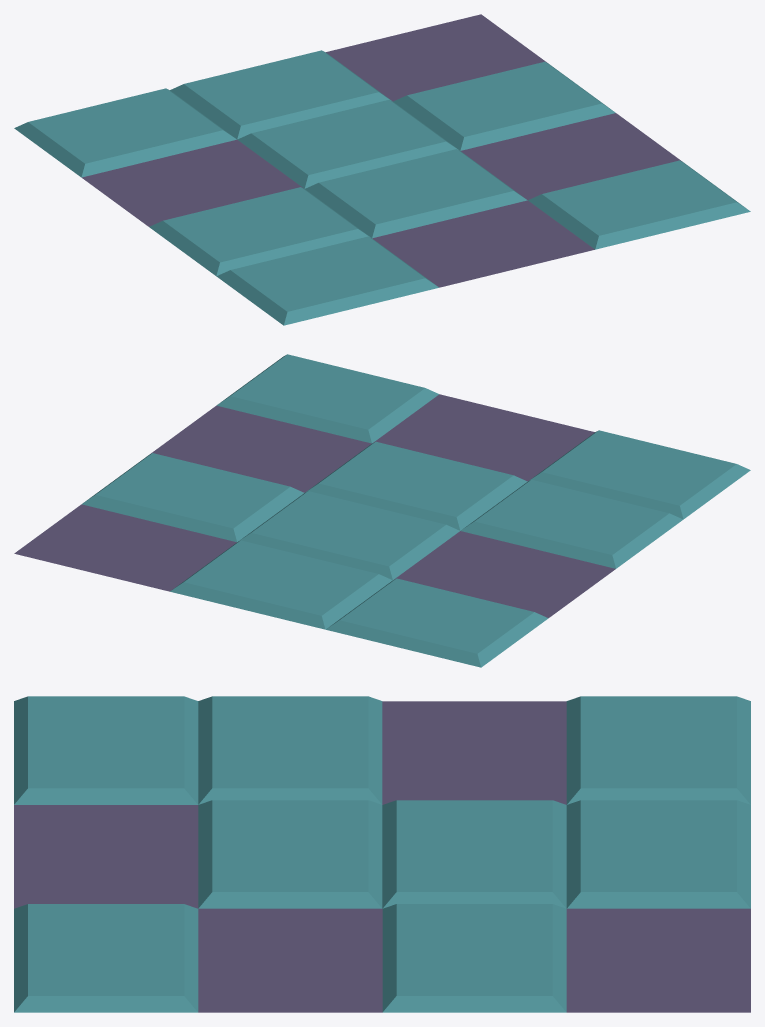
Rendered from TileFloor_Type1.fbx.
The picture shows the model from 3 angles, top to bottom: view 1: azimuth 30°, elevation 25°; view 2: azimuth 150°, elevation 25°; view 3: azimuth 270°, elevation 25°; orthographic projection. The views are drawn at different scales.
Parts seen in each view (by area): view 1: Plane; view 2: Plane; view 3: Plane.
Boxes of the visible parts, bbox=[...] form: Plane: bbox=[14, 14, 750, 325]; Plane: bbox=[14, 354, 750, 667]; Plane: bbox=[14, 696, 750, 1012].
Bounding box in the file's own units: 200 × 3.22 × 200.
